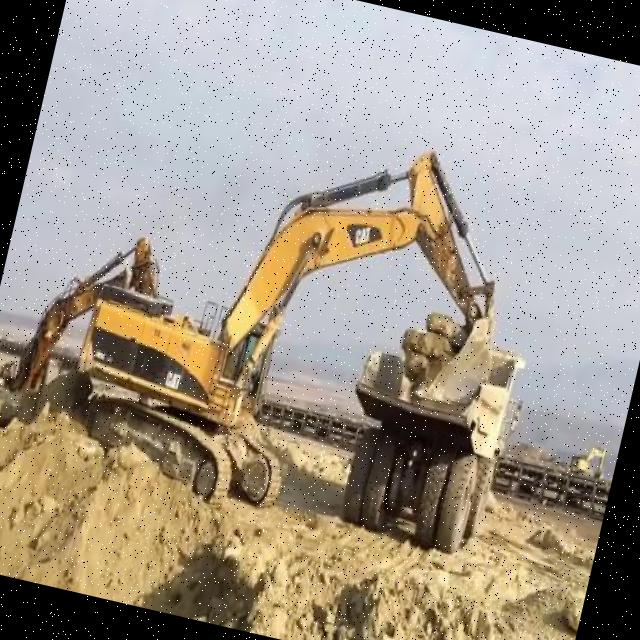Dump Truck: (323, 310, 534, 568)
Excavator: (54, 78, 534, 560), (0, 206, 167, 452), (566, 438, 609, 481)
